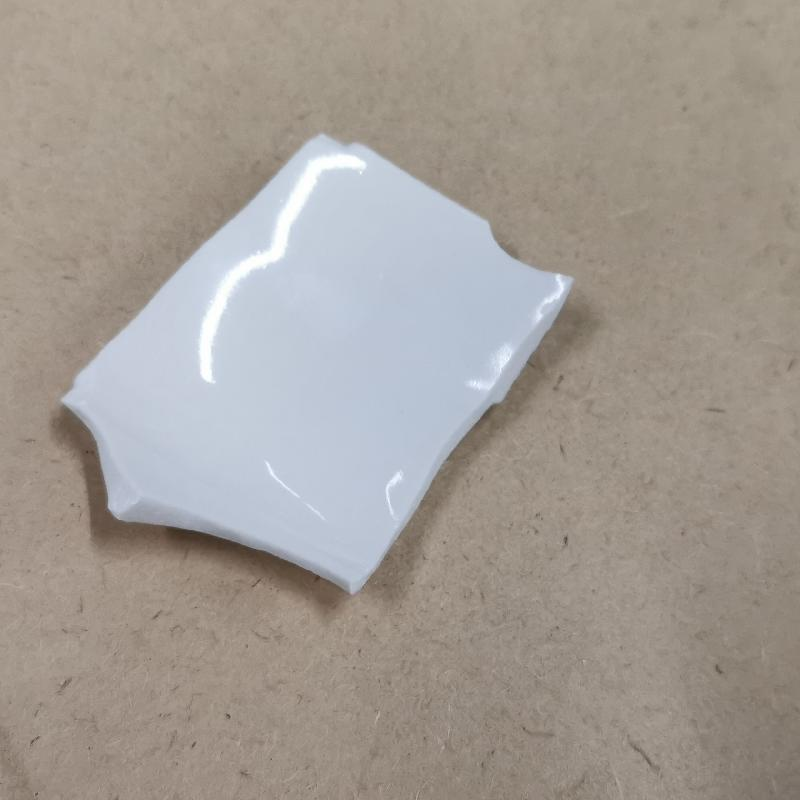ceram: (57, 131, 579, 602)
